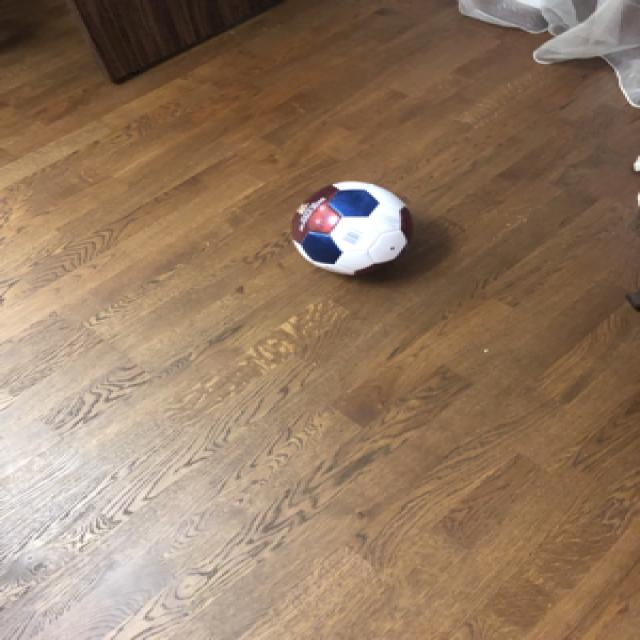soccer_ball: (286, 176, 414, 278)
